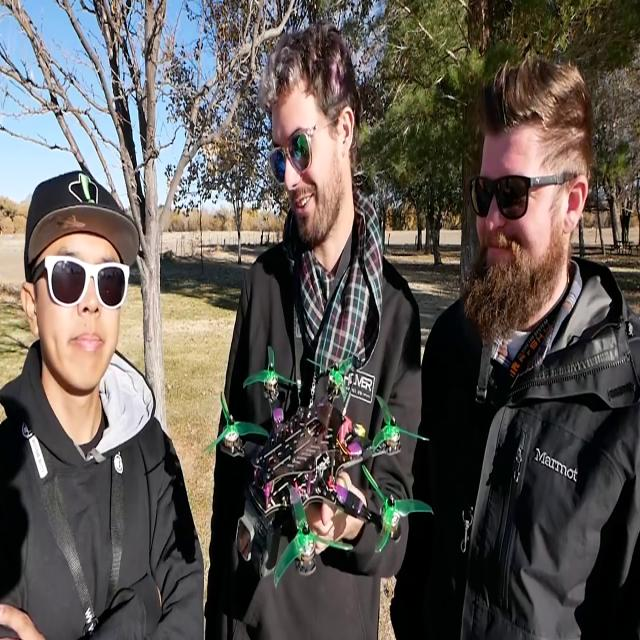drone: (202, 342, 410, 576)
